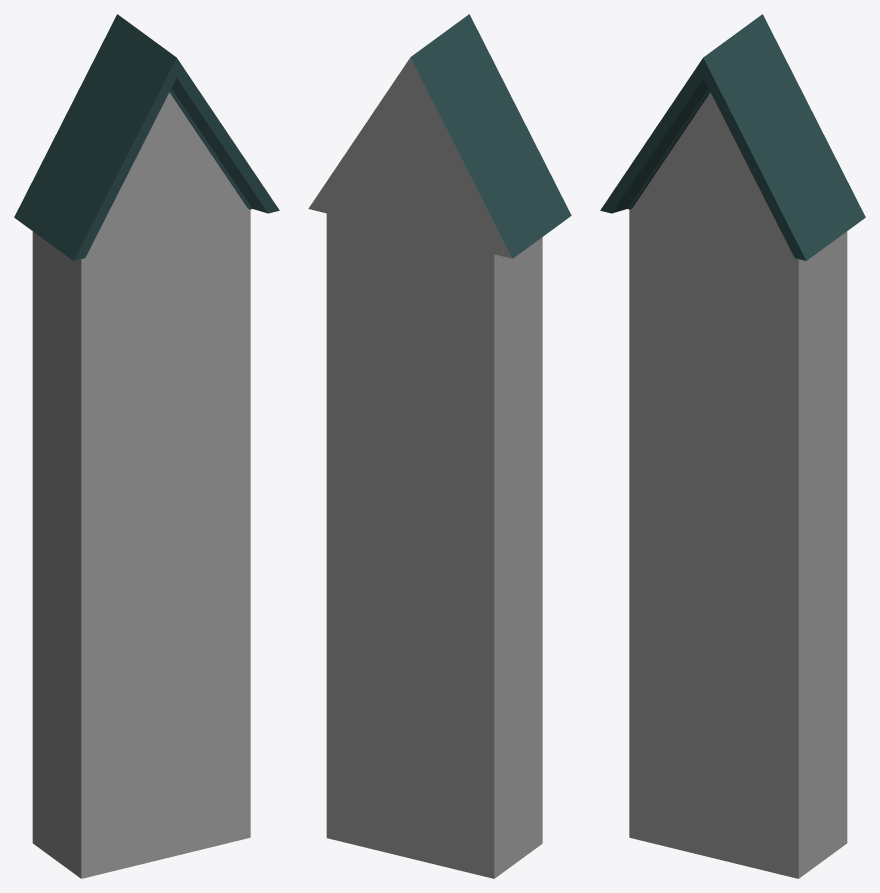
The model's file is Prop_Gothic_Building_Overhang_Window_02.FBX.
3 views of the same model, side by side, from view 1: azimuth 30°, elevation 25°; view 2: azimuth 150°, elevation 25°; view 3: azimuth 330°, elevation 25° (orthographic).
Visible parts, largest first — view 1: Prop_Gothic_Building_Overhang_Window_02; view 2: Prop_Gothic_Building_Overhang_Window_02; view 3: Prop_Gothic_Building_Overhang_Window_02.
Part boxes in pixels (<box>): Prop_Gothic_Building_Overhang_Window_02: <box>14,14,279,878</box>; Prop_Gothic_Building_Overhang_Window_02: <box>308,14,571,878</box>; Prop_Gothic_Building_Overhang_Window_02: <box>600,14,865,878</box>.
Bounding box in the file's own units: 1110 × 4157 × 554.
